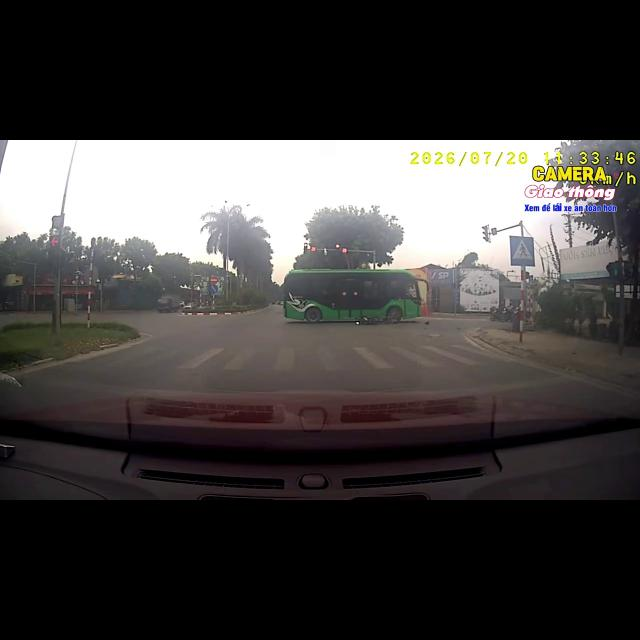bus: (283, 269, 424, 322)
truck: (158, 295, 181, 312)
